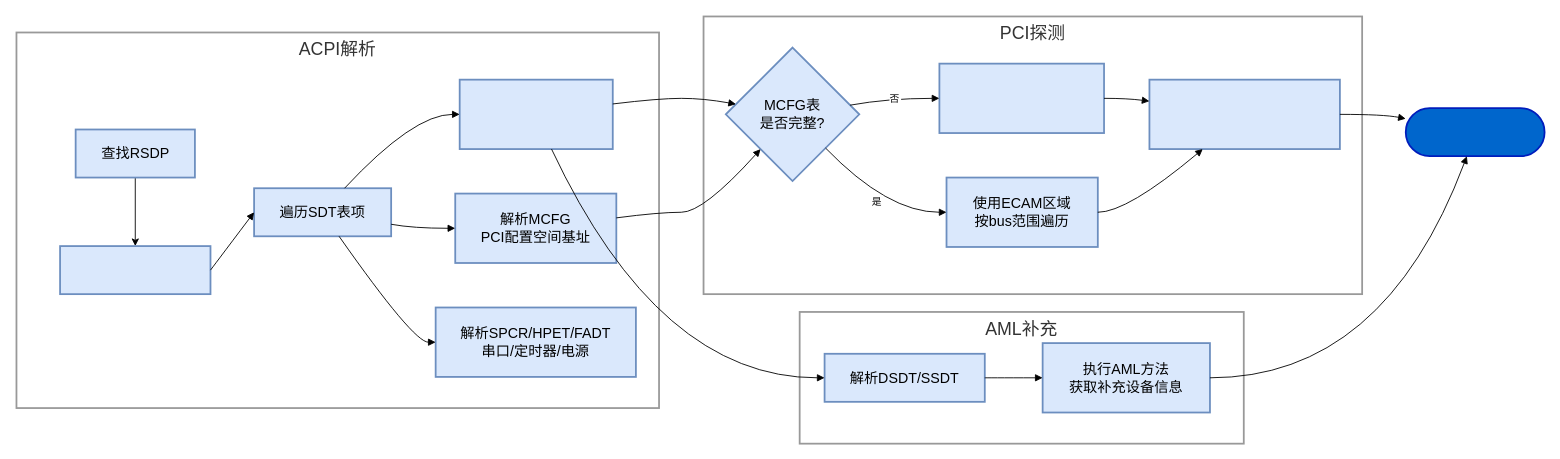
The diagram is 1560 pixels wide and 459 high, and some of its shapes have lost their labels. The centre of each missing label's shape, as x and y in pixels:
"回退默认基址 PCI_ECAM_BASE" belongs at pixel 1021 98.
"定位SDT/XSDT" belongs at pixel 135 270.
"统一设备列表" belongs at pixel 1474 132.
"解析MADT 中断控制器信息" belongs at pixel 535 114.
"逐个枚举 bus/device/function" belongs at pixel 1244 114.
